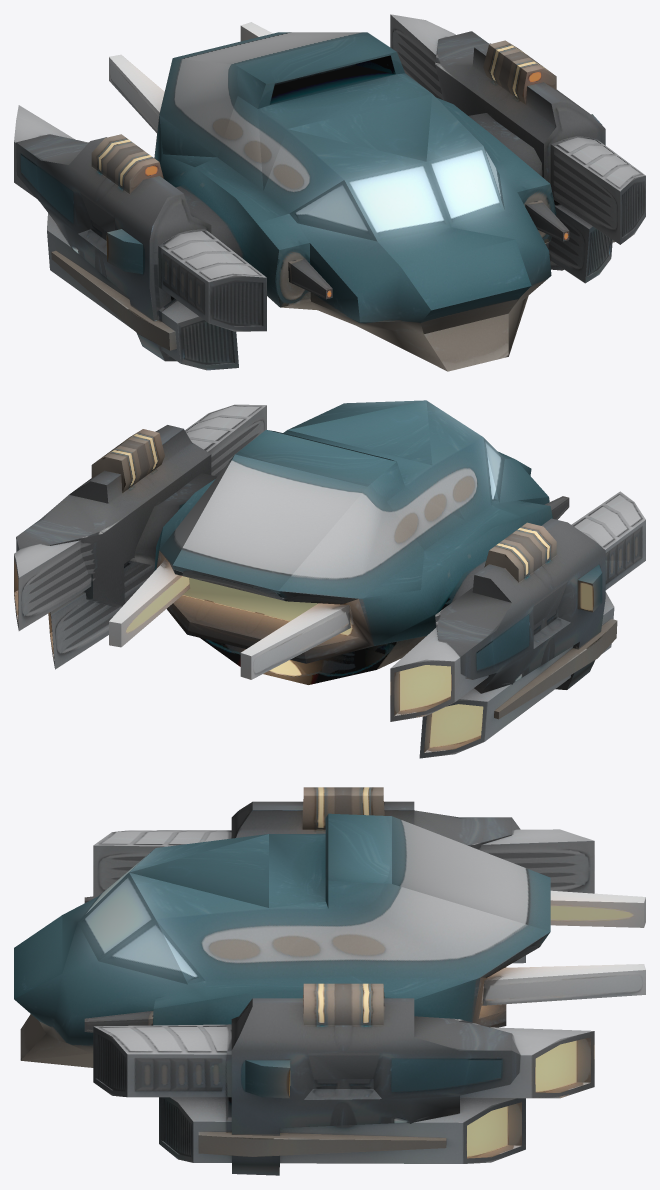
The model's file is vehicle_spacecraft_ship_conqueor_001_gr_mesh.FBX.
The picture shows the model from 3 angles, top to bottom: view 1: azimuth 30°, elevation 25°; view 2: azimuth 150°, elevation 25°; view 3: azimuth 270°, elevation 25°; orthographic projection. The views are drawn at different scales.
Parts seen in each view (by area): view 1: vehicle_spacecraft_ship_conqueor_001_gr; view 2: vehicle_spacecraft_ship_conqueor_001_gr; view 3: vehicle_spacecraft_ship_conqueor_001_gr.
Boxes of the visible parts, <box> form: vehicle_spacecraft_ship_conqueor_001_gr: <box>14,14,645,371</box>; vehicle_spacecraft_ship_conqueor_001_gr: <box>14,400,645,758</box>; vehicle_spacecraft_ship_conqueor_001_gr: <box>14,787,645,1175</box>.
Size of the model in its own units: 6.64 by 2.82 by 7.14.
